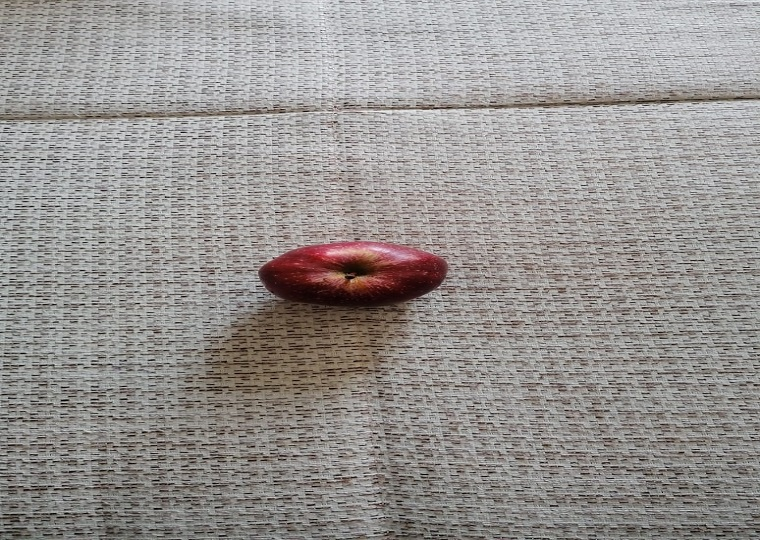elma: (256, 240, 449, 309)
